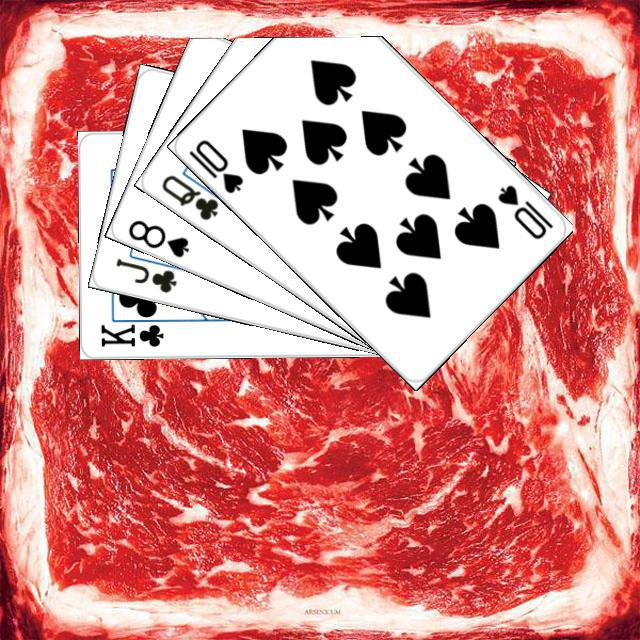10s: (492, 179, 555, 241), (183, 134, 245, 196)
8s: (123, 215, 191, 260)
Jc: (110, 253, 179, 295)
Kc: (95, 312, 172, 349)
Qc: (156, 164, 233, 223)
